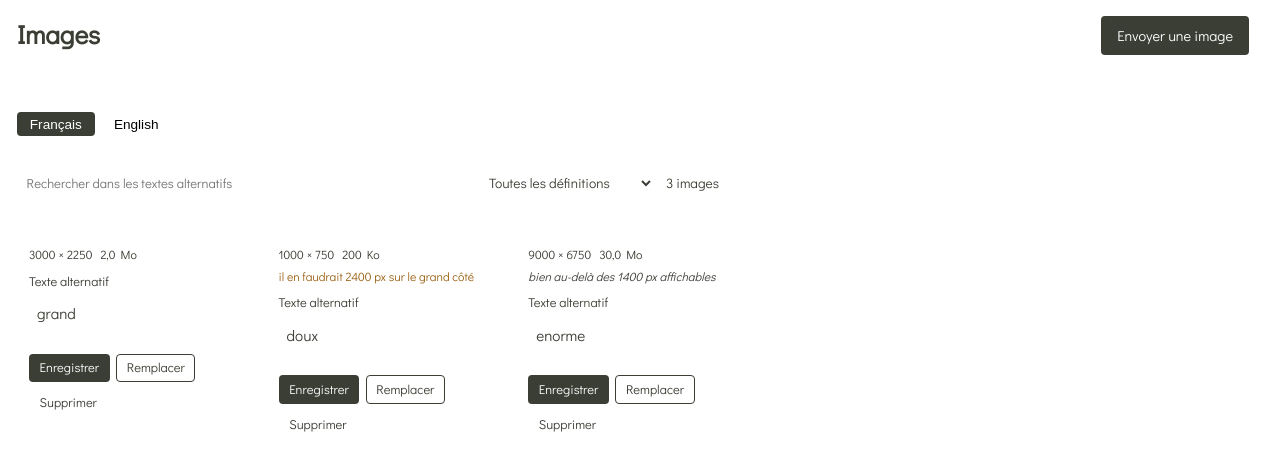
it: MediaLibrary resolution › combines the filter with the text search
Select "Définition insuffisante (1)" in the dropdown named "Filtrer par définition" at (566, 183), box [477,167,654,200]
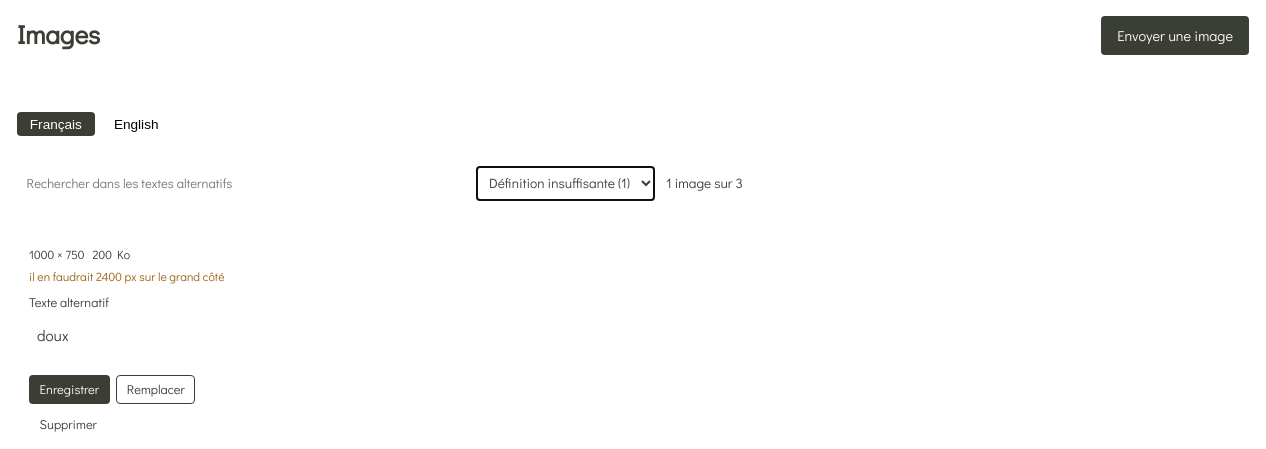
Type "enorme" into the search field labelled "Rechercher dans les textes alternatifs".
click(241, 184); type("enorme")  # box [17,167,465,200]
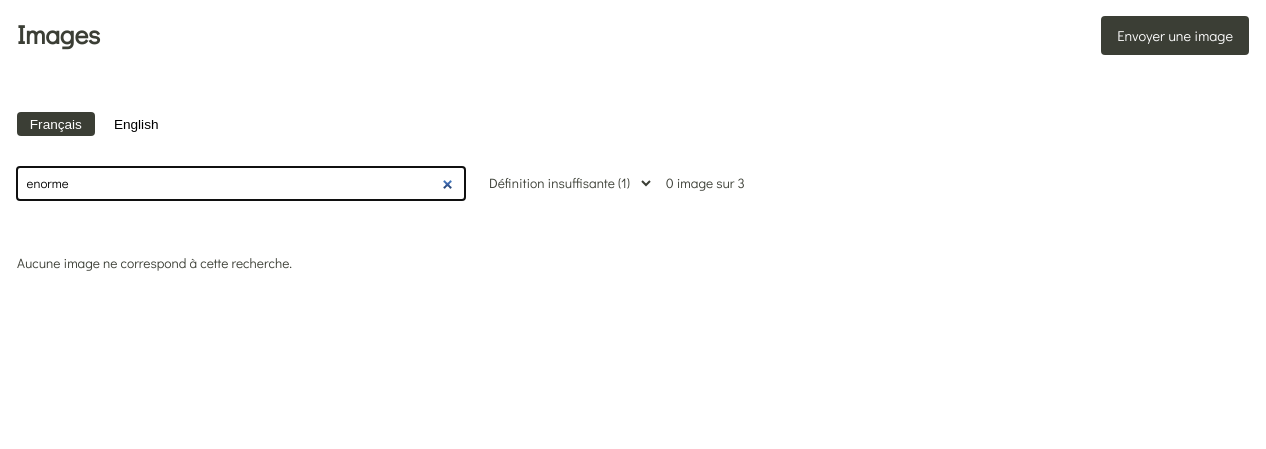
Expected: the text "Aucune image ne correspond à cette recherche." is shown, [17,254,292,272]
